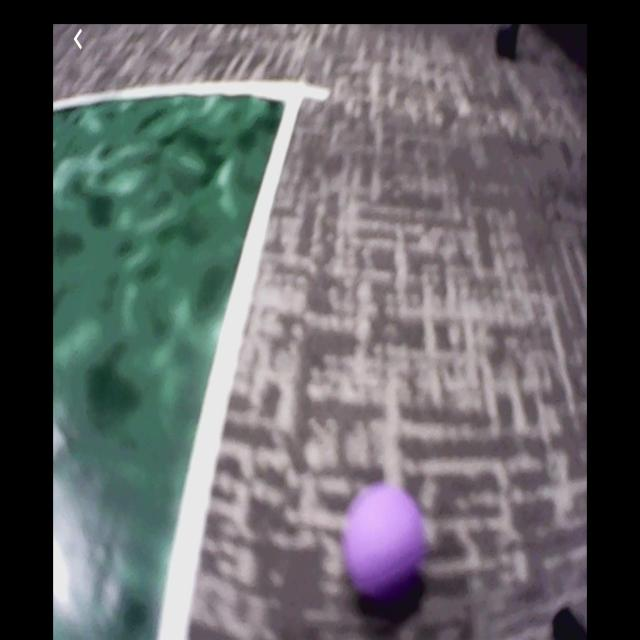ball: (344, 484, 426, 597)
